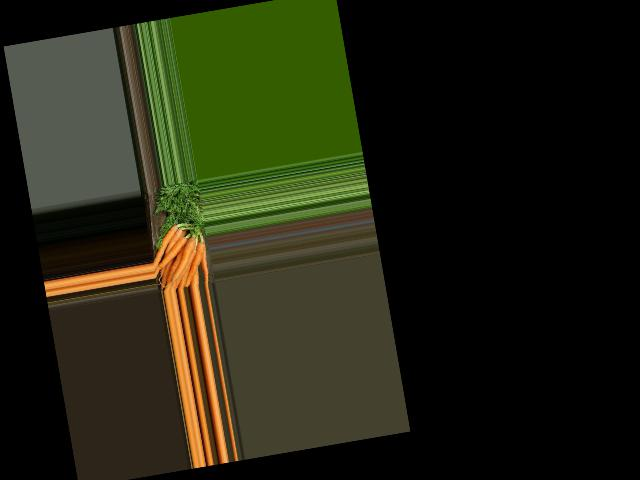carrot: (176, 240, 212, 288)
